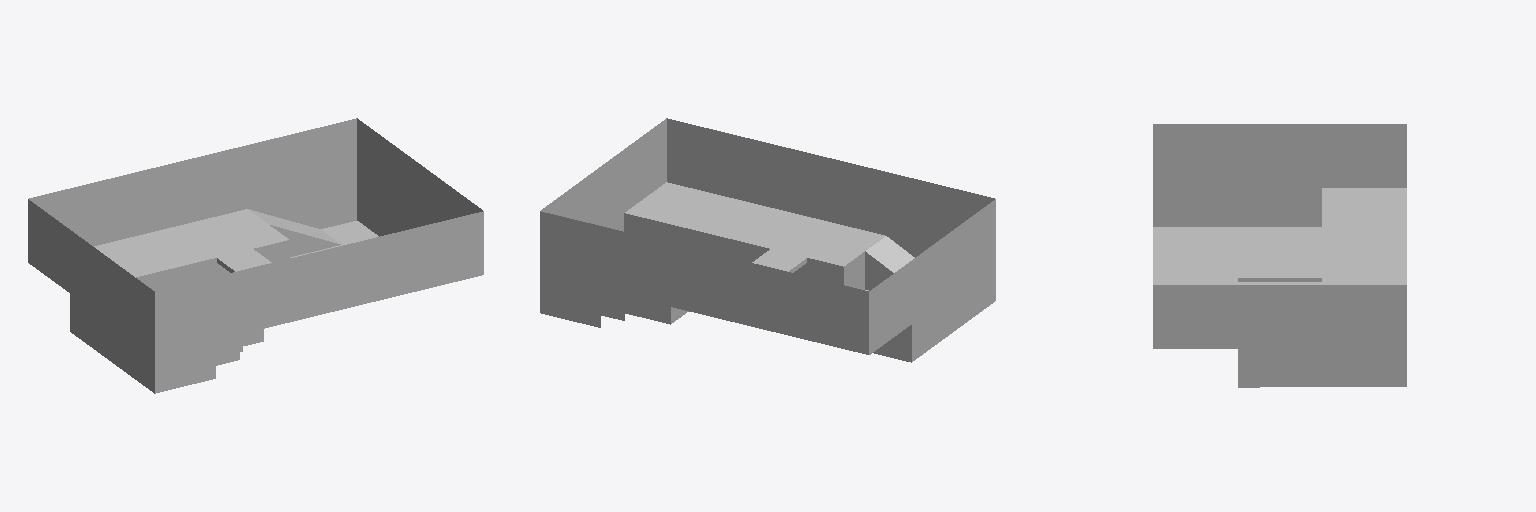
Rendered from ArenaTiled.obj.
The picture shows the model from 3 angles: view 1: azimuth 30°, elevation 25°; view 2: azimuth 150°, elevation 25°; view 3: azimuth 270°, elevation 25°; orthographic projection.
Visible parts, largest first — view 1: Default; view 2: Default; view 3: Default.
Part boxes in pixels (bbox=[...]): Default: bbox=[28, 118, 483, 393]; Default: bbox=[540, 118, 995, 362]; Default: bbox=[1153, 124, 1406, 387].
Bounding box in the file's own units: 27 × 8 × 18.